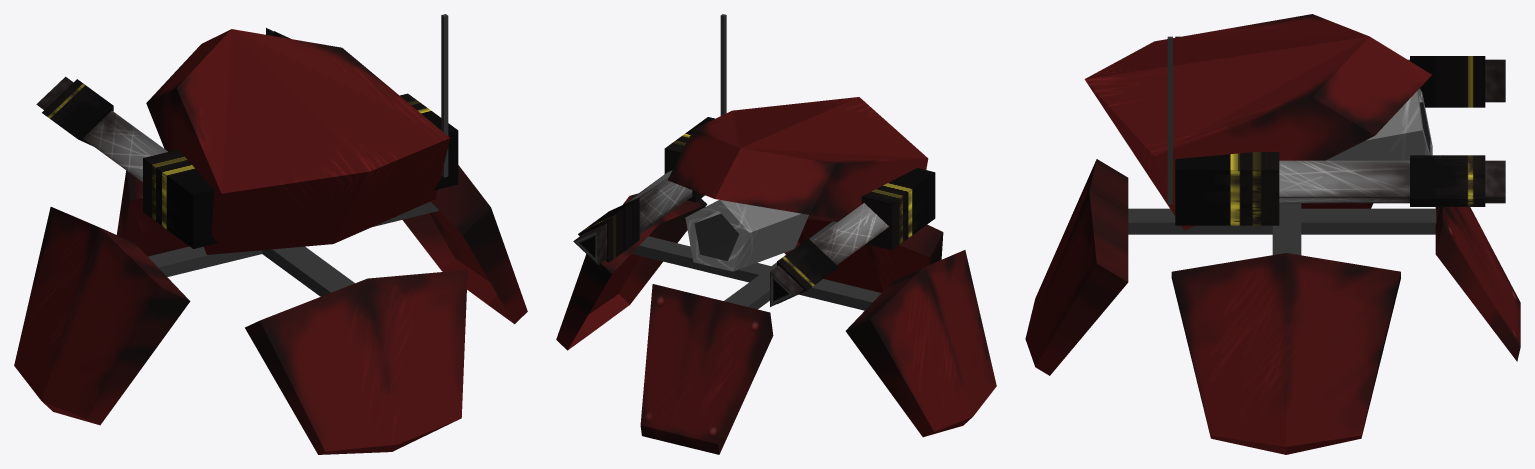
Rendered from TDTowerMortar3.fbx.
The picture shows the model from 3 angles, left to right: view 1: azimuth 30°, elevation 25°; view 2: azimuth 150°, elevation 25°; view 3: azimuth 270°, elevation 25°; orthographic projection. The views are drawn at different scales.
Parts seen in each view (by area): view 1: polySurface395, pCube170; view 2: polySurface395, pCube170; view 3: pCube170, polySurface395.
Boxes of the visible parts, x1,y1,x2,y2 form: polySurface395: (14,165,527,454); pCube170: (36,14,458,254); polySurface395: (556,193,996,454); pCube170: (573,14,935,306); pCube170: (1084,14,1505,230); polySurface395: (1025,159,1520,454).
Size of the model in its own units: 24.55 by 18.47 by 22.25.
